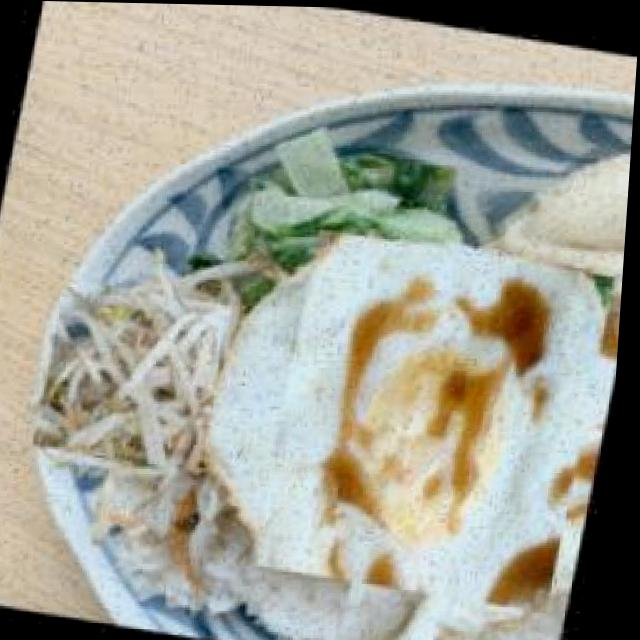fried_eggs: (244, 233, 628, 604)
mung_bean_sprouts: (35, 276, 239, 472)
rice: (281, 490, 528, 640)
